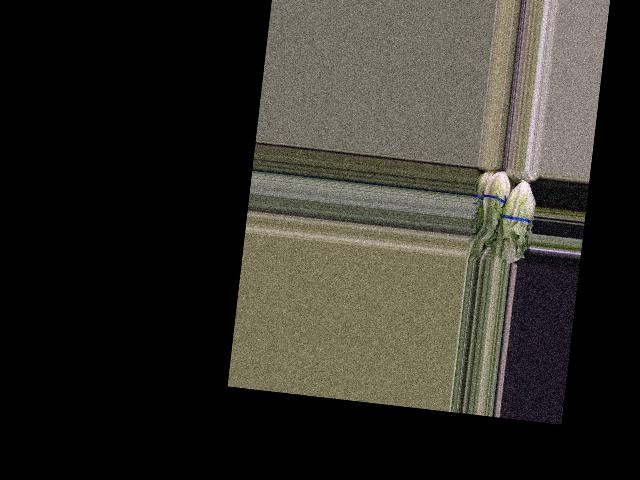lettuce: (472, 167, 512, 246)
